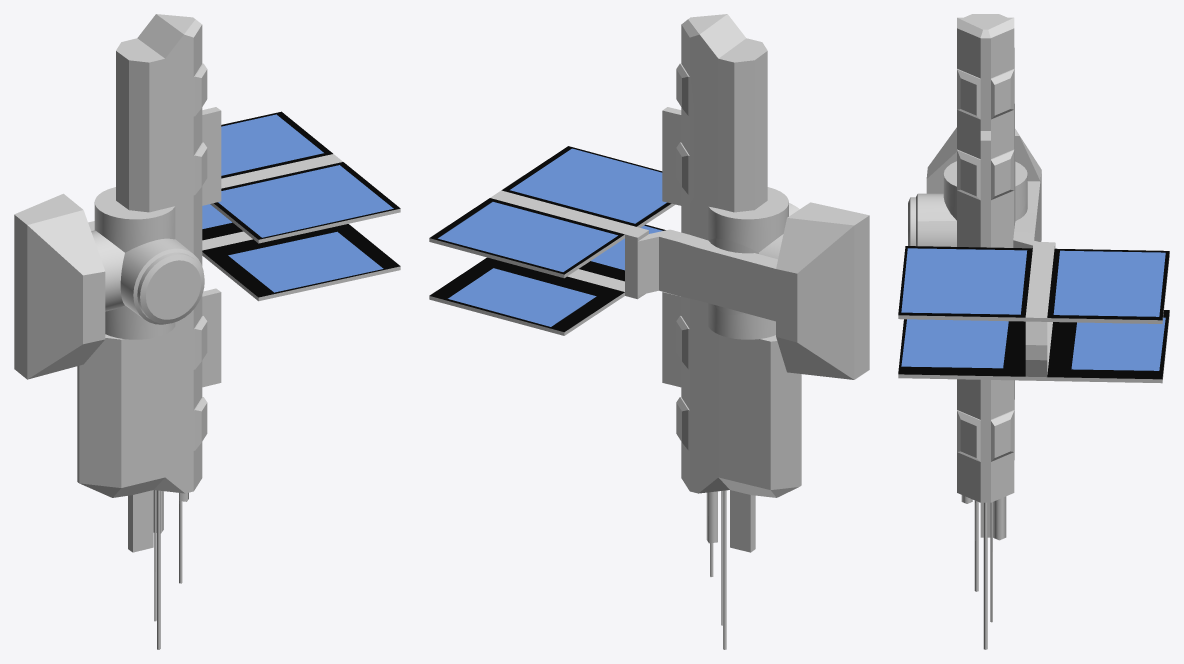
File: spacestation.fbx
The picture shows the model from 3 angles, left to right: view 1: azimuth 30°, elevation 25°; view 2: azimuth 150°, elevation 25°; view 3: azimuth 270°, elevation 25°; orthographic projection. The views are drawn at different scales.
Parts seen in each view (by area): view 1: Cube; view 2: Cube; view 3: Cube.
Part boxes in pixels (box(x1,y1,x2,y2)): Cube: box(14, 14, 400, 649); Cube: box(429, 14, 869, 649); Cube: box(898, 14, 1169, 649).
Size of the model in its own units: 51248 by 87166 by 33687.
